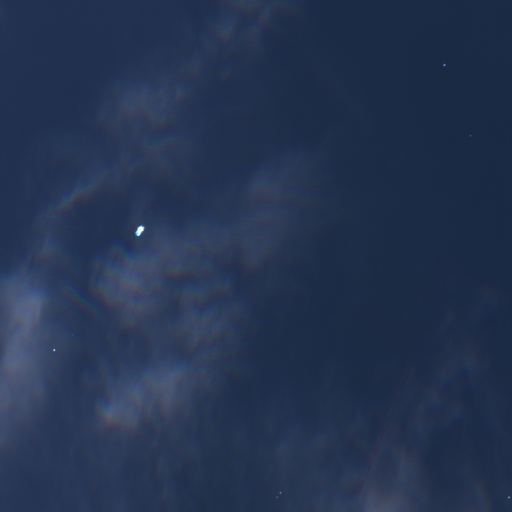Iceberg: (135, 225, 144, 236), (53, 348, 55, 351), (507, 496, 510, 498), (443, 63, 445, 65), (469, 135, 471, 136), (279, 492, 281, 493), (276, 496, 277, 497)
